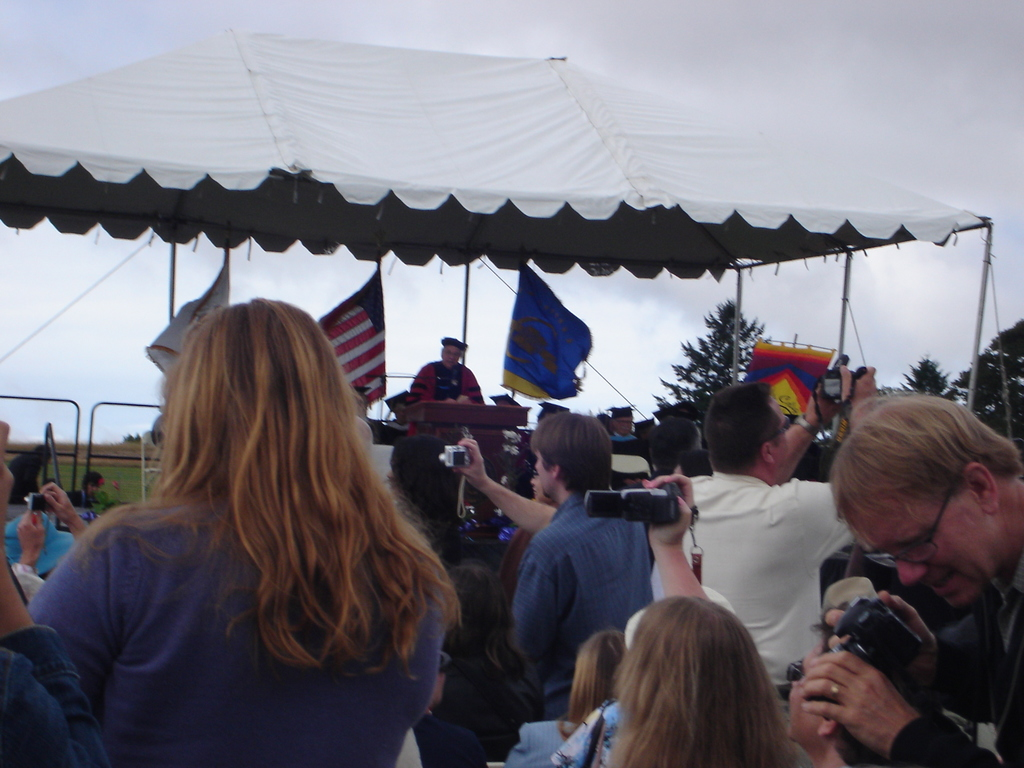Human_hand: (797, 651, 923, 755), (822, 590, 941, 679), (639, 471, 698, 548), (839, 362, 877, 426), (451, 435, 490, 492), (0, 419, 17, 543), (804, 383, 846, 426), (38, 481, 79, 525), (15, 508, 47, 560), (454, 393, 469, 405)
